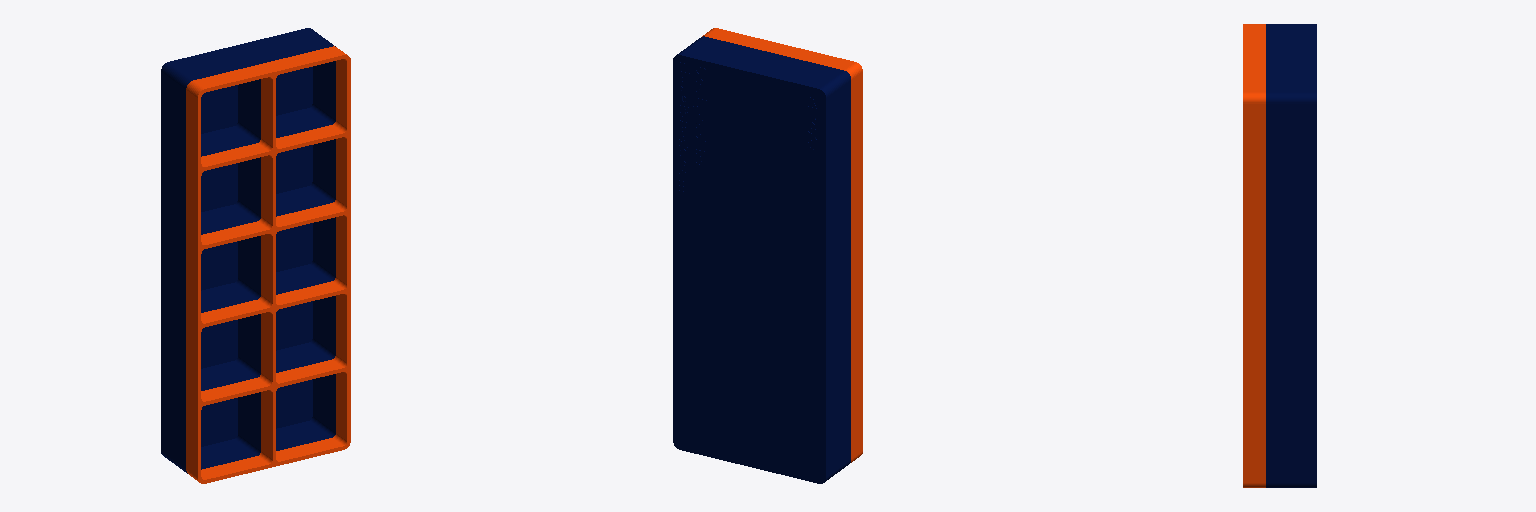
The model's file is DropperBottleTray.obj.
3 renders of one model, left to right at view 1: azimuth 30°, elevation 25°; view 2: azimuth 150°, elevation 25°; view 3: azimuth 270°, elevation 25°, orthographic.
Parts seen in each view (by area): view 1: Dropper Bottle Tray, Dropper Bottle Tray (1); view 2: Dropper Bottle Tray, Dropper Bottle Tray (1); view 3: Dropper Bottle Tray, Dropper Bottle Tray (1).
Boxes of the visible parts, <box> form: Dropper Bottle Tray: <box>161,28,335,473</box>; Dropper Bottle Tray (1): <box>186,46,350,483</box>; Dropper Bottle Tray: <box>673,36,850,483</box>; Dropper Bottle Tray (1): <box>702,28,862,462</box>; Dropper Bottle Tray: <box>1266,24,1316,487</box>; Dropper Bottle Tray (1): <box>1243,24,1265,487</box>.
Bounding box in the file's own units: 84 × 207 × 35.